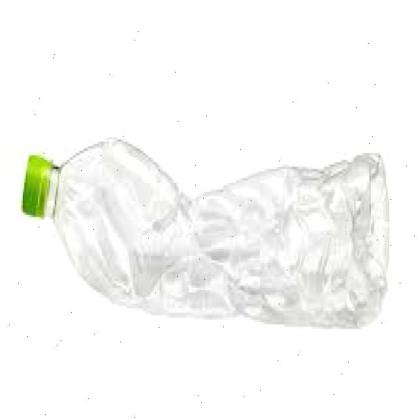bottle: (20, 129, 390, 337)
cap: (22, 150, 52, 222)
